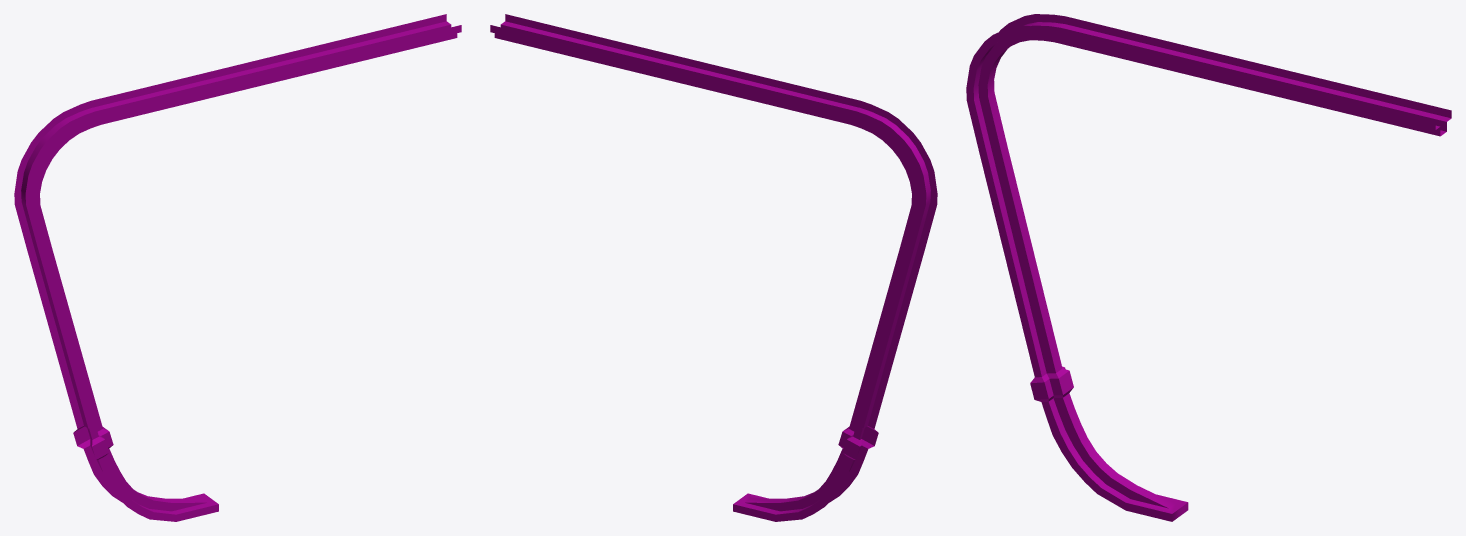
The model's file is Gare_2_Poteau_Mur_pencher_1.fbx.
3 views of the same model, side by side, from view 1: azimuth 30°, elevation 25°; view 2: azimuth 150°, elevation 25°; view 3: azimuth 330°, elevation 25° (orthographic). The views are drawn at different scales.
Parts seen in each view (by area): view 1: Gare_2_Poteau_Mur_pencher_1; view 2: Gare_2_Poteau_Mur_pencher_1; view 3: Gare_2_Poteau_Mur_pencher_1.
Part boxes in pixels (x1=…): Gare_2_Poteau_Mur_pencher_1: x1=14, y1=14, x2=461, y2=521; Gare_2_Poteau_Mur_pencher_1: x1=490, y1=14, x2=937, y2=521; Gare_2_Poteau_Mur_pencher_1: x1=966, y1=14, x2=1451, y2=521.
Size of the model in its own units: 8.42 by 7.95 by 0.6377.
